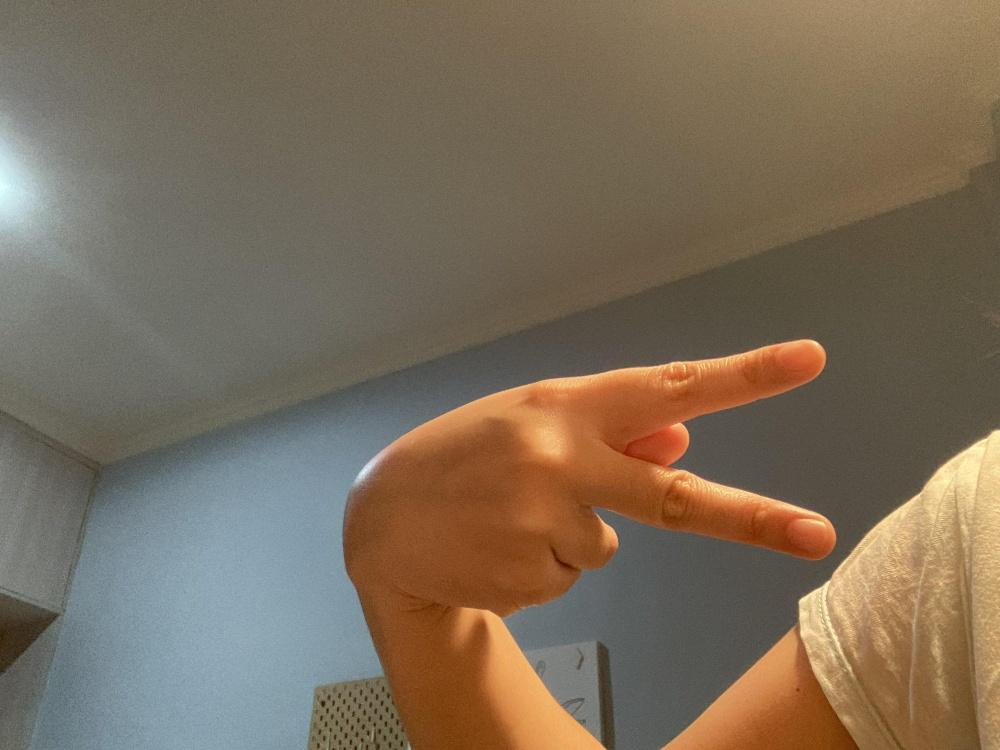k: (342, 337, 836, 617)
